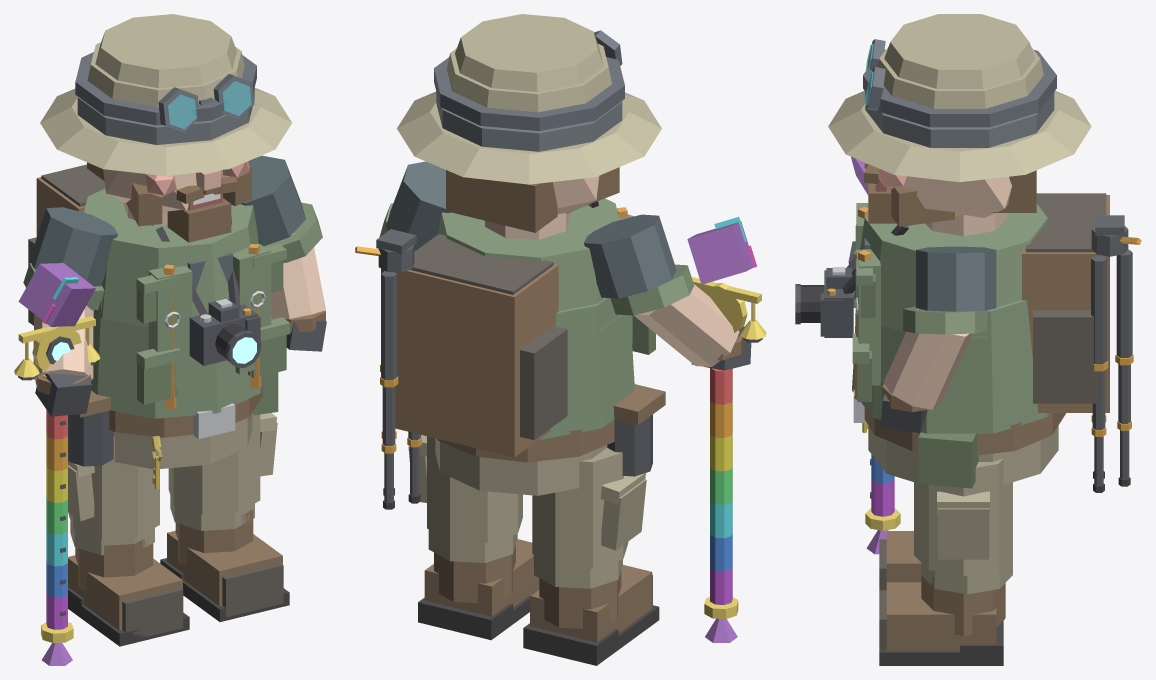
The model's file is photographer.glb.
The picture shows the model from 3 angles, left to right: view 1: azimuth 30°, elevation 25°; view 2: azimuth 150°, elevation 25°; view 3: azimuth 270°, elevation 25°; orthographic projection. The views are drawn at different scales.
Visible parts, largest first — view 1: Photographer; view 2: Photographer; view 3: Photographer.
Boxes of the visible parts, x1,y1,x2,y2 form: Photographer: (14, 14, 326, 665); Photographer: (355, 14, 766, 665); Photographer: (795, 14, 1141, 665).
Bounding box in the file's own units: 1.1 × 1.75 × 0.9471.
